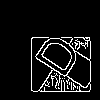D: (25, 25, 83, 80)
